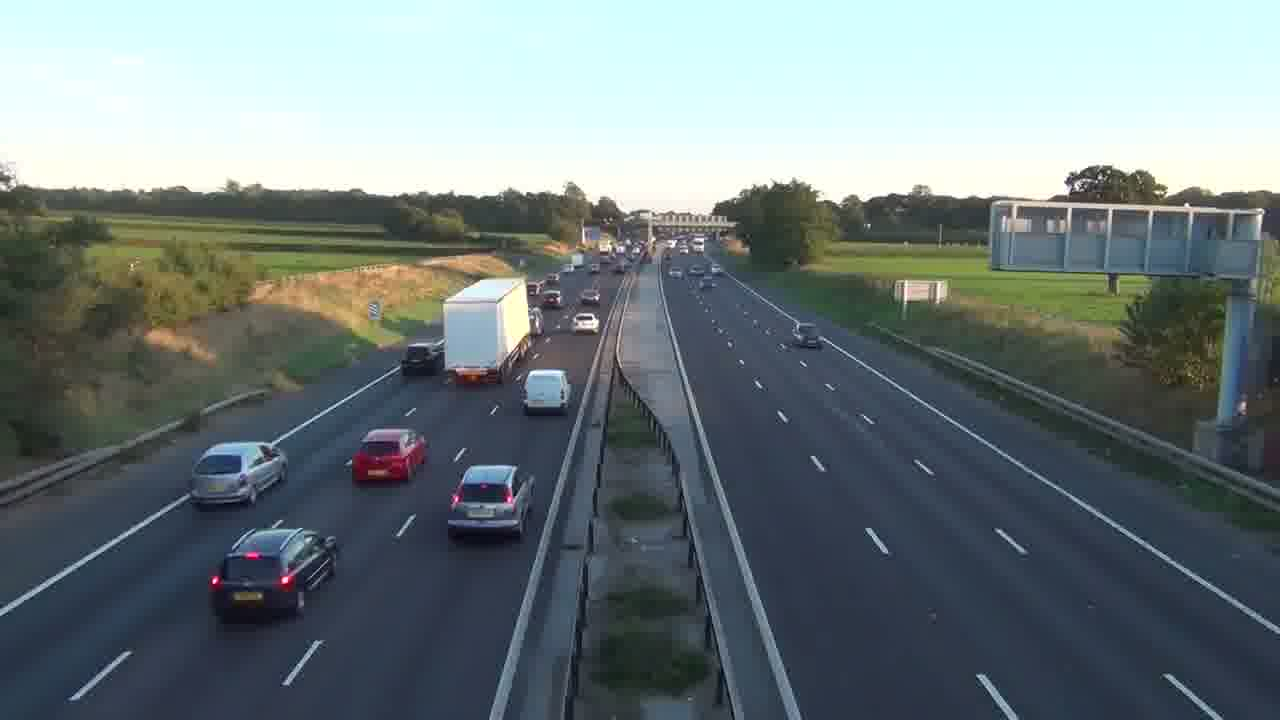car: (208, 523, 339, 622), (446, 463, 536, 540), (190, 441, 288, 508), (351, 428, 429, 483), (573, 311, 599, 334)
truck: (443, 277, 533, 388), (522, 368, 571, 416), (400, 338, 446, 377)
